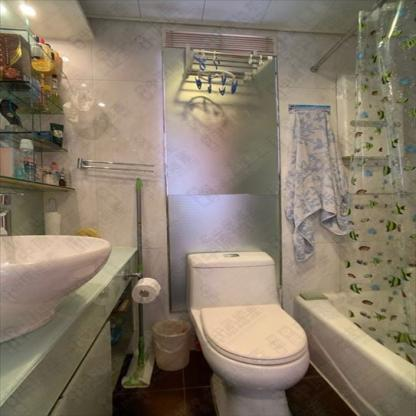Toilet: (186, 251, 310, 415)
Toilet Sink: (3, 234, 113, 342)
